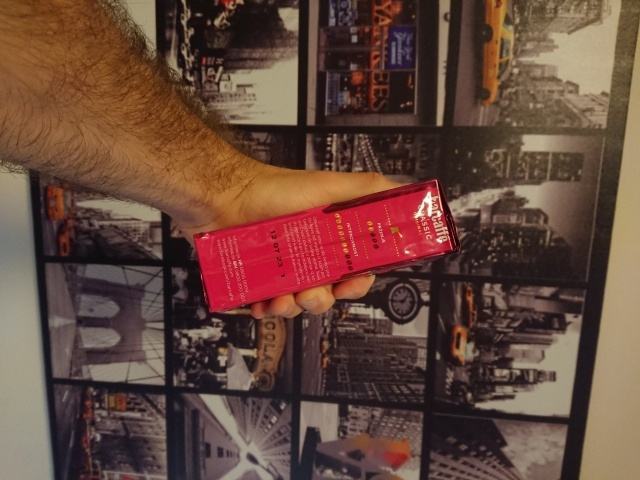Barcaffe Classic Original 225g: (190, 175, 465, 316)
